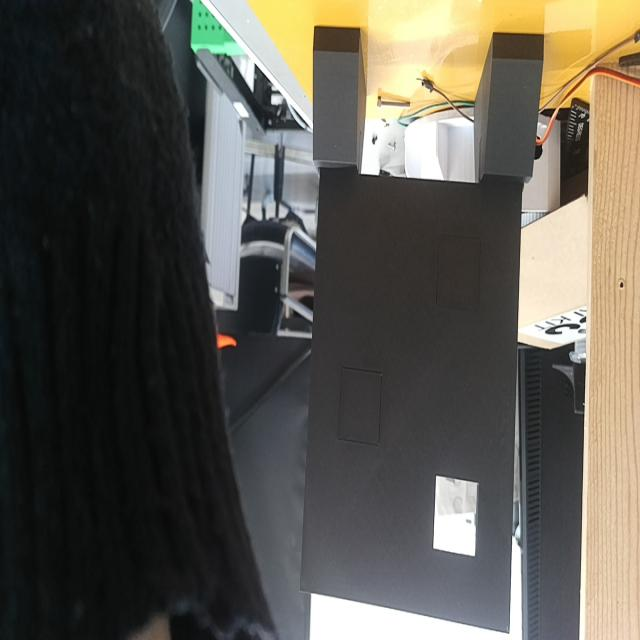Obstacle: (432, 478, 479, 556)
Wall: (299, 168, 522, 634)
